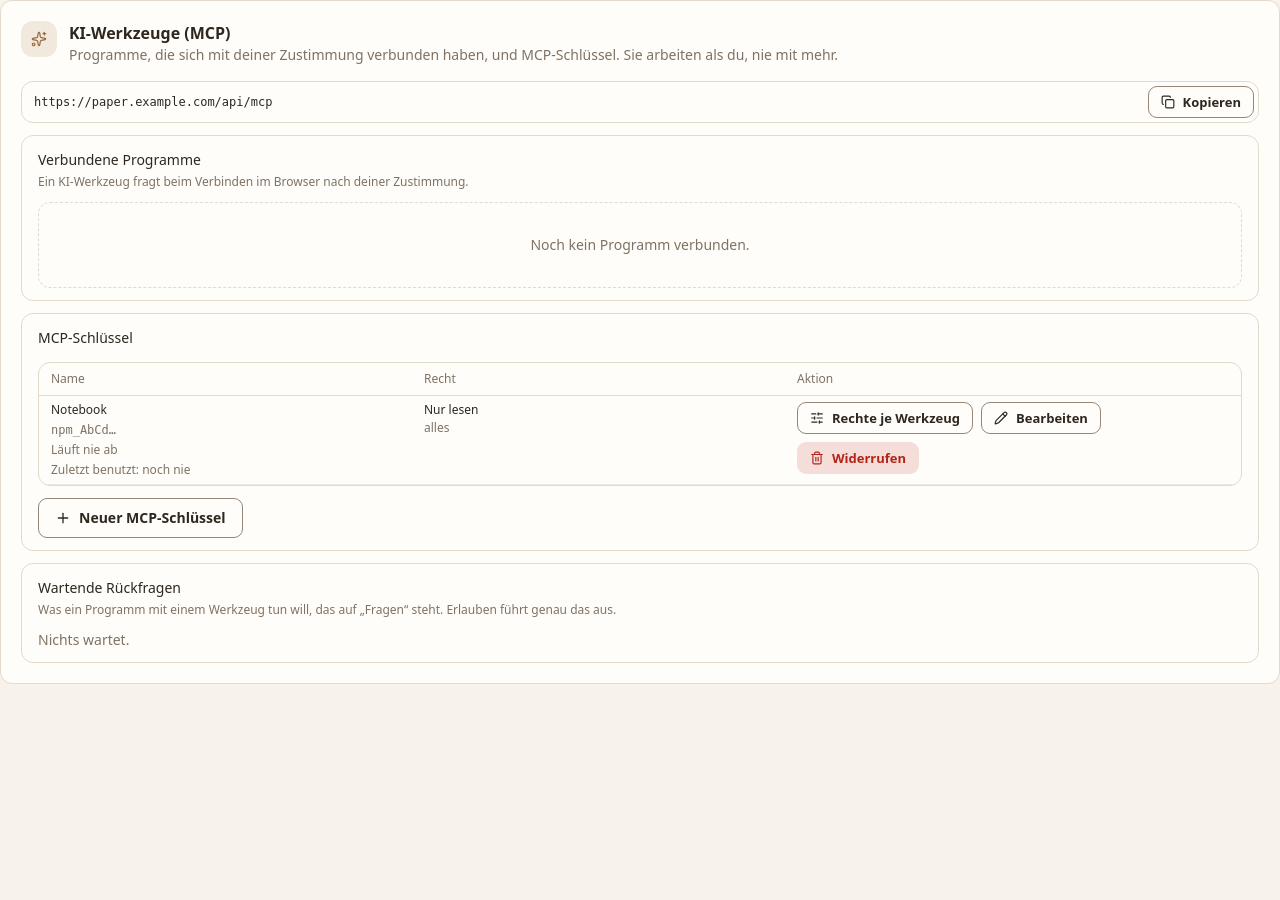
Scenario: the card "KI-Werkzeuge (MCP)" › opens the rights of the key in nexpaper's words
Click the button with test id "tool-rights": (885, 418) 797,402 -> 973,434
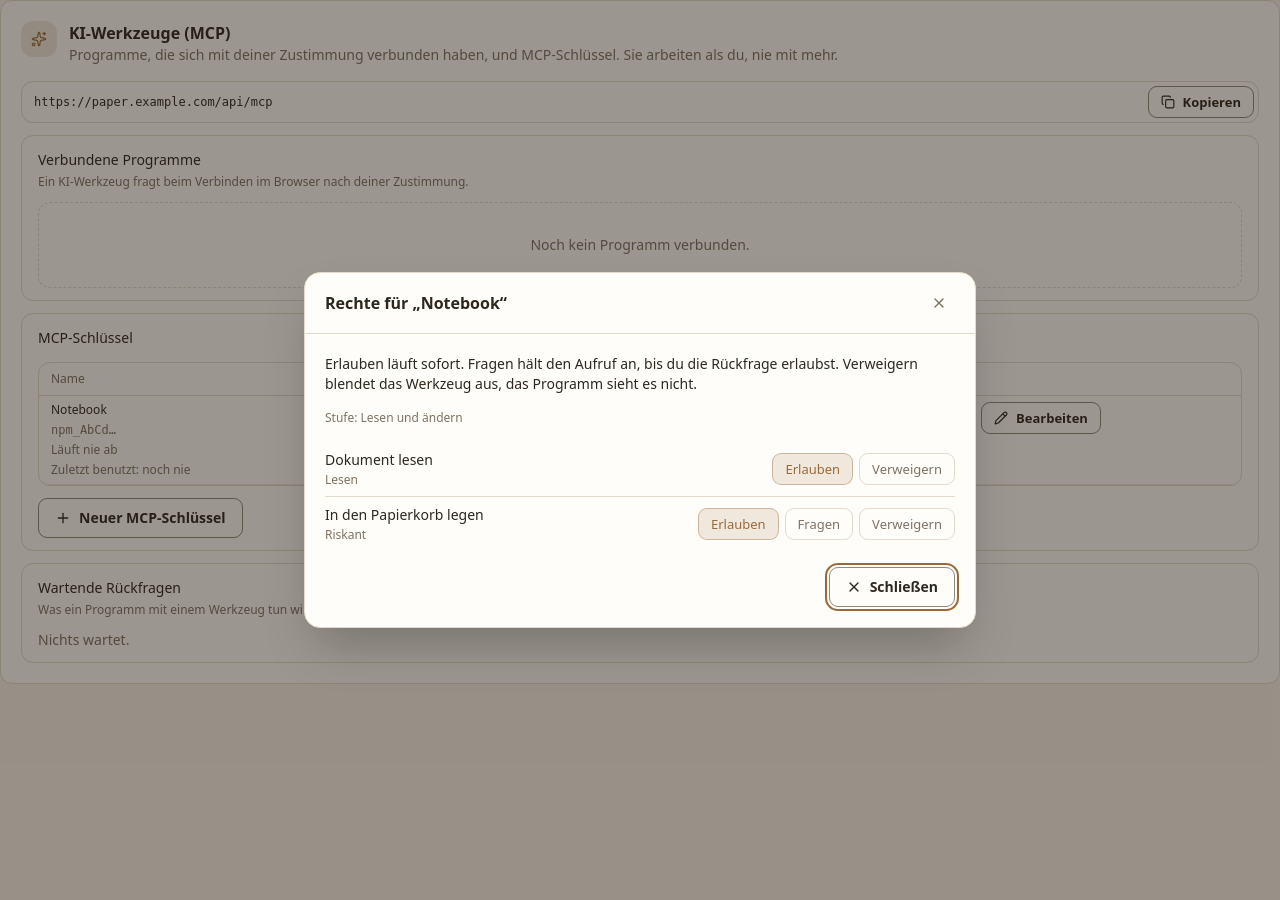
Check: the text "Dokument lesen" is shown, box 325,450 -> 433,469
Check: the text "In den Papierkorb legen" is shown, box 325,505 -> 484,524
